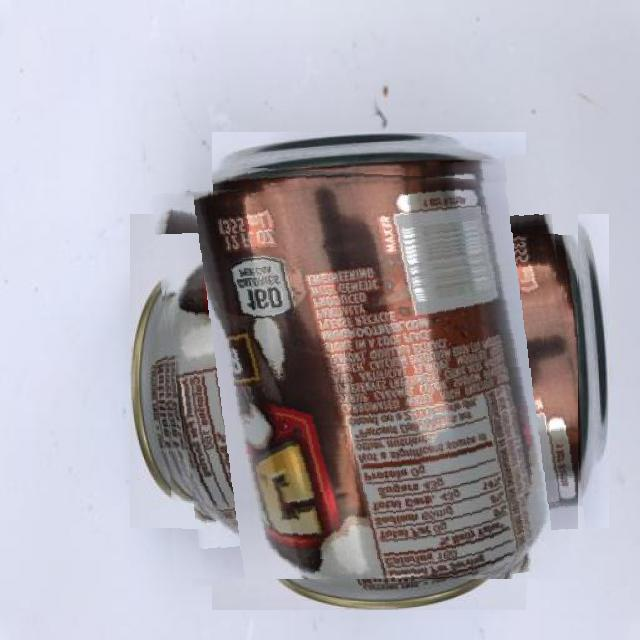recyclable: (161, 163, 578, 579)
